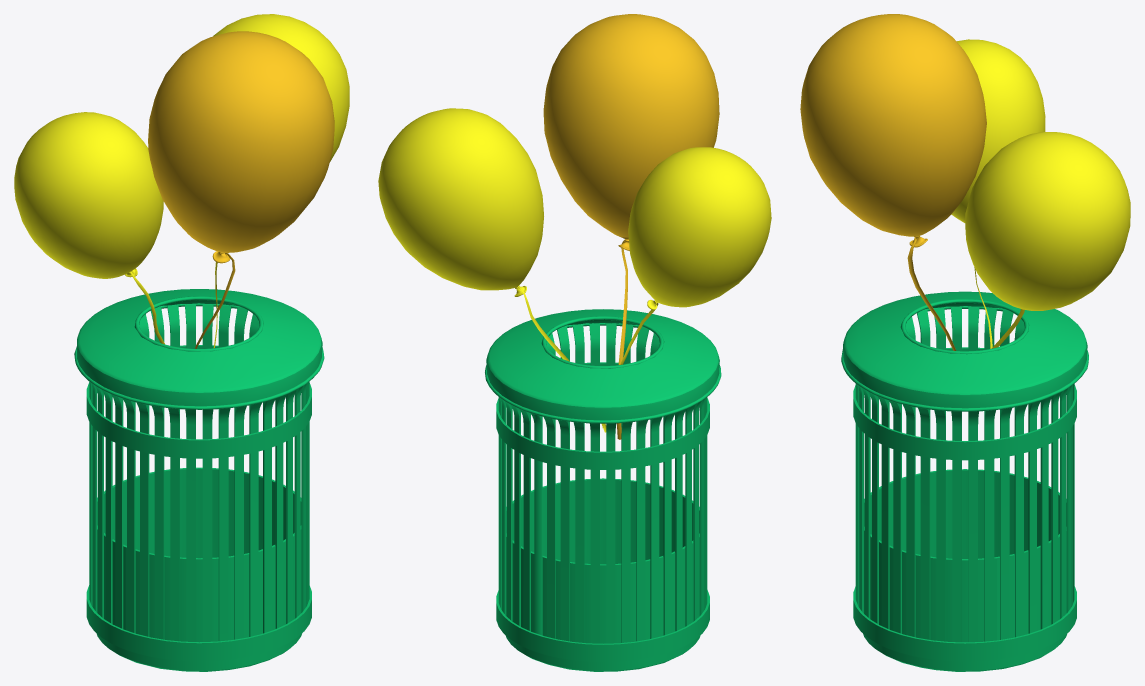
The model's file is trashcan1.glb.
3 renders of one model, left to right at view 1: azimuth 30°, elevation 25°; view 2: azimuth 150°, elevation 25°; view 3: azimuth 270°, elevation 25°, orthographic. The views are drawn at different scales.
Visible parts, largest first — view 1: SM_TrashCan01_LOD1.001; view 2: SM_TrashCan01_LOD1.001; view 3: SM_TrashCan01_LOD1.001.
Part boxes in pixels (<box>): SM_TrashCan01_LOD1.001: <box>14,14,349,671</box>; SM_TrashCan01_LOD1.001: <box>378,14,771,671</box>; SM_TrashCan01_LOD1.001: <box>800,14,1130,671</box>.
Size of the model in its own units: 1.19 by 1.97 by 0.9644.
